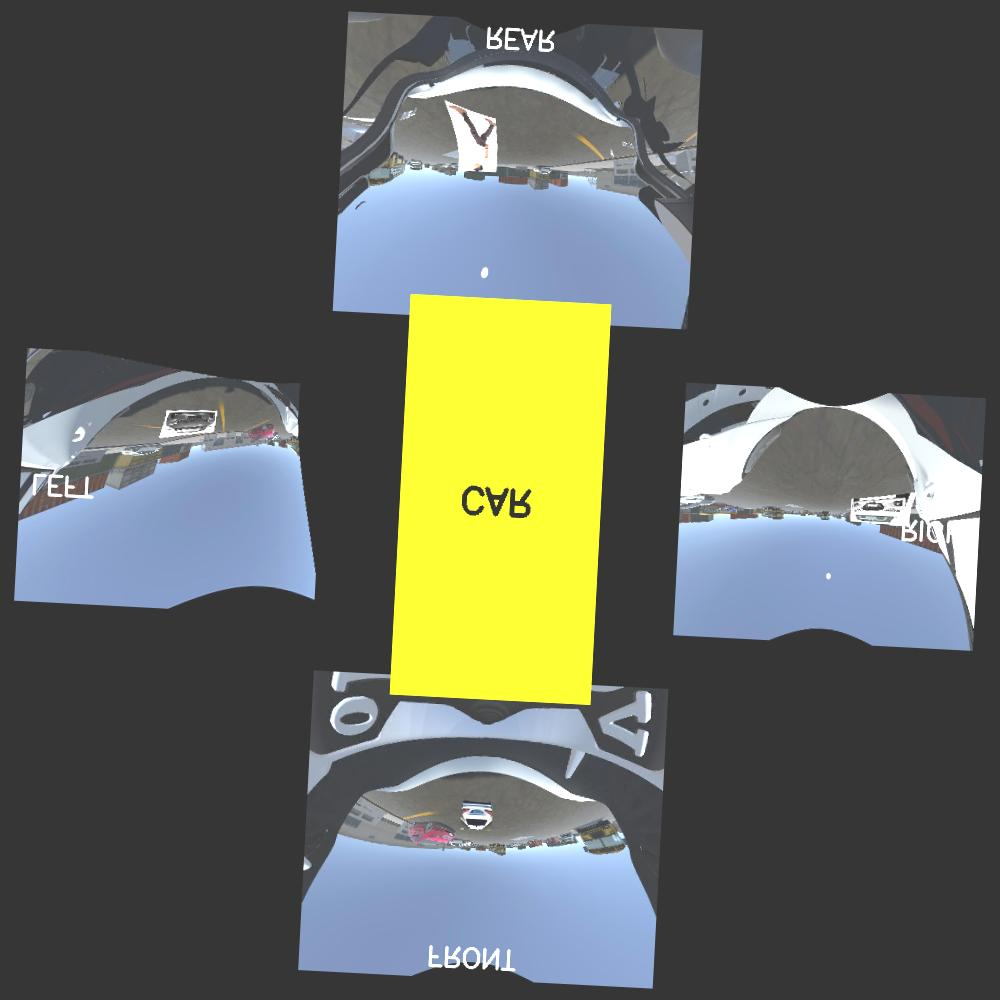Car: (849, 491, 913, 526), (158, 408, 218, 441), (460, 802, 494, 831)
objects: (449, 114, 496, 174)
